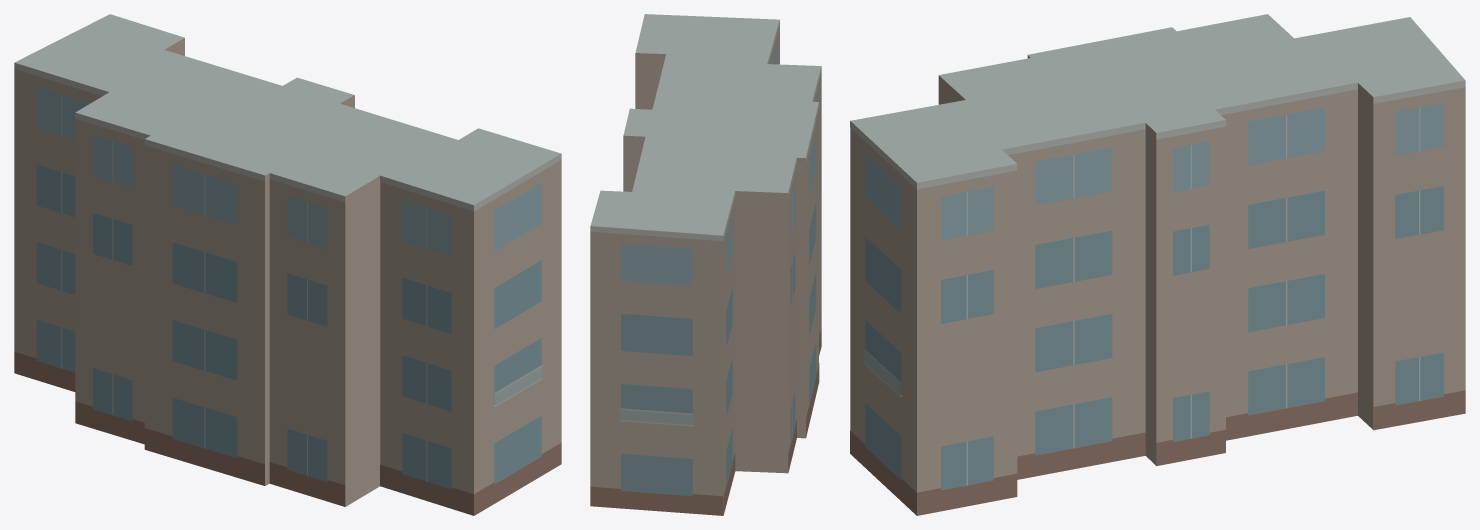
Rendered from survey-upis-32586303.glb.
The picture shows the model from 3 angles, left to right: view 1: azimuth 30°, elevation 25°; view 2: azimuth 150°, elevation 25°; view 3: azimuth 270°, elevation 25°; orthographic projection. The views are drawn at different scales.
Visible parts, largest first — view 1: survey-upis-32586303.tmp; view 2: survey-upis-32586303.tmp; view 3: survey-upis-32586303.tmp.
Part boxes in pixels (bbox=[...]): survey-upis-32586303.tmp: bbox=[14, 14, 561, 515]; survey-upis-32586303.tmp: bbox=[590, 14, 821, 515]; survey-upis-32586303.tmp: bbox=[850, 14, 1465, 515].
Size of the model in its own units: 13.28 by 12.2 by 20.44.
